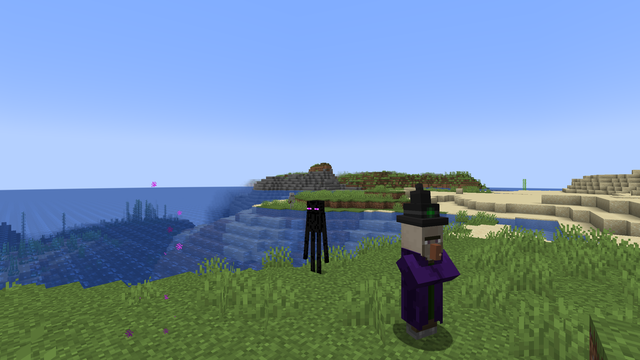endermens: (304, 197, 325, 272)
sorcieres: (397, 215, 444, 348)
squelettes: (288, 192, 294, 208)
